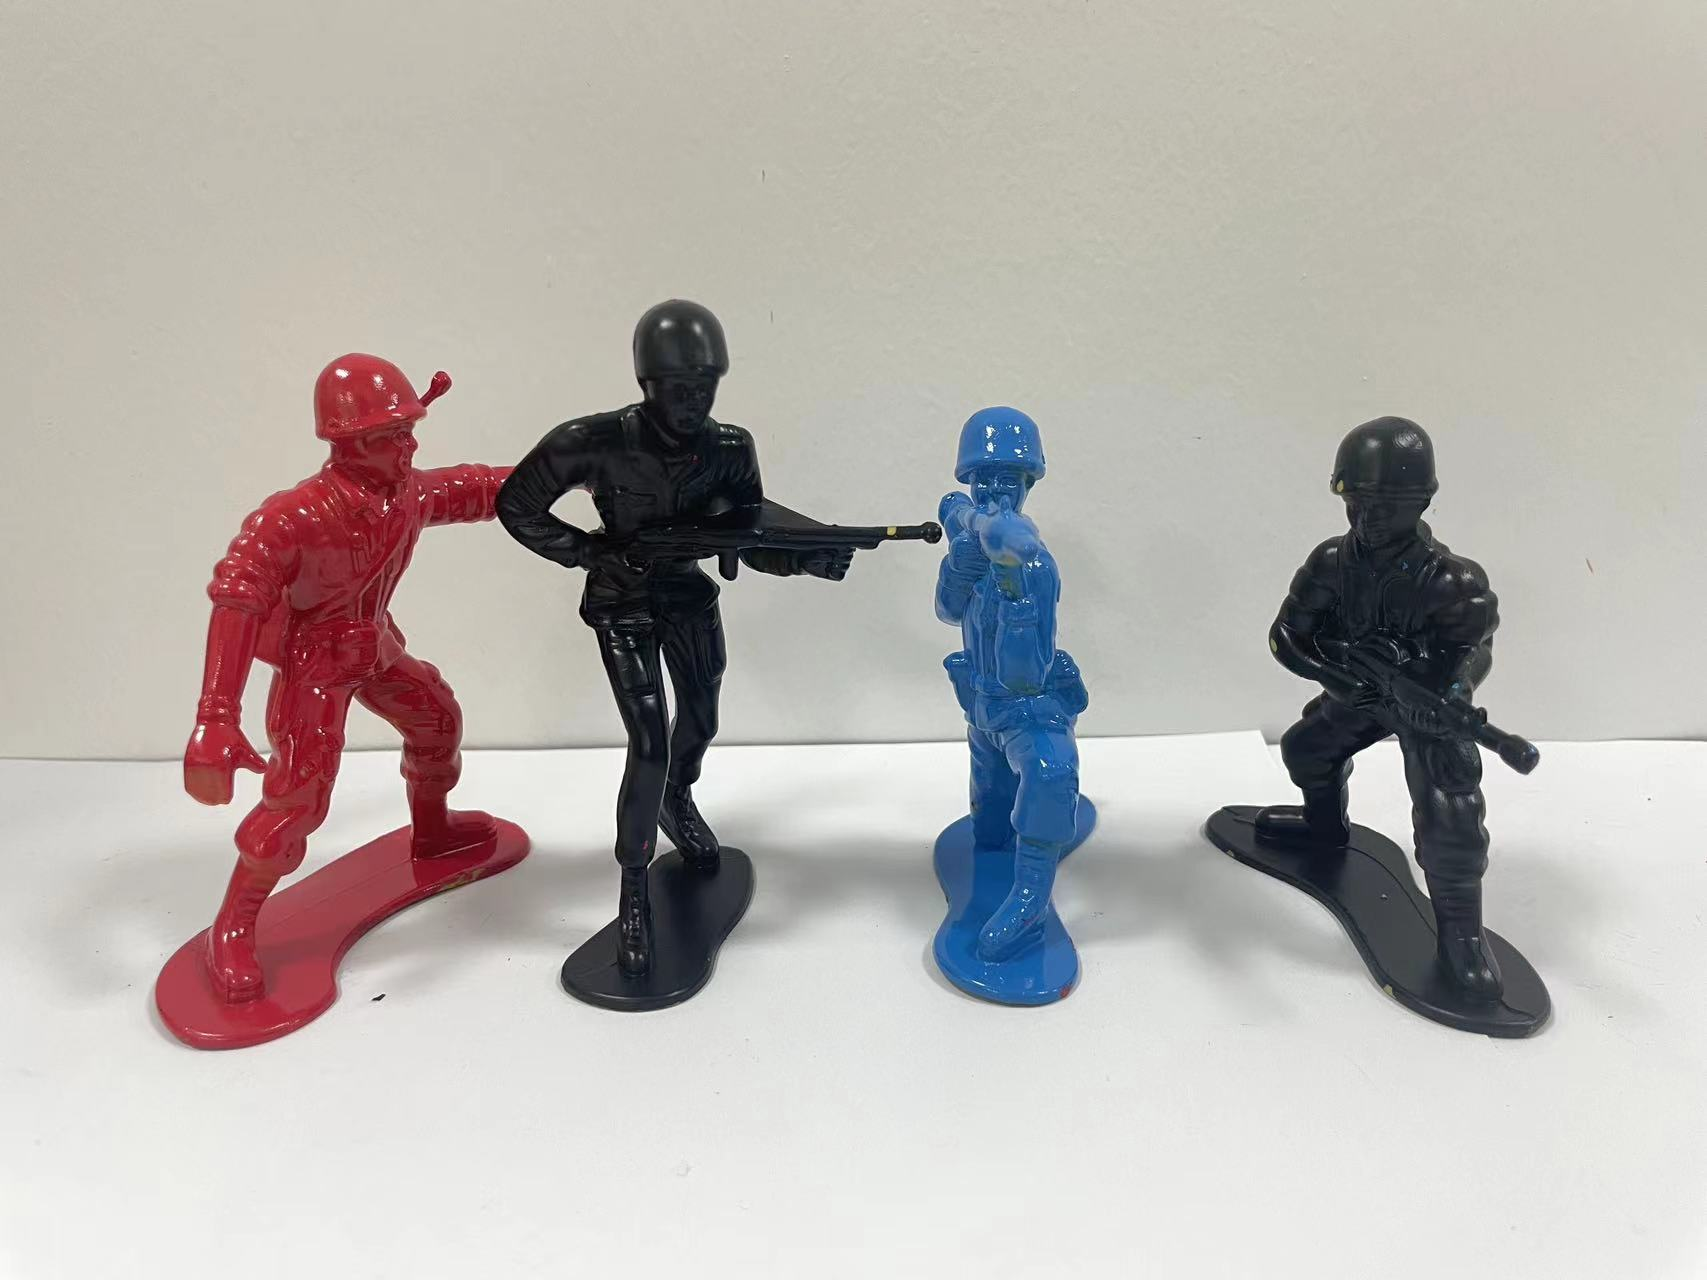black: (1194, 372, 1641, 1074), (499, 258, 875, 1076)
blue: (880, 355, 1164, 1072)
red: (121, 316, 499, 1082)
